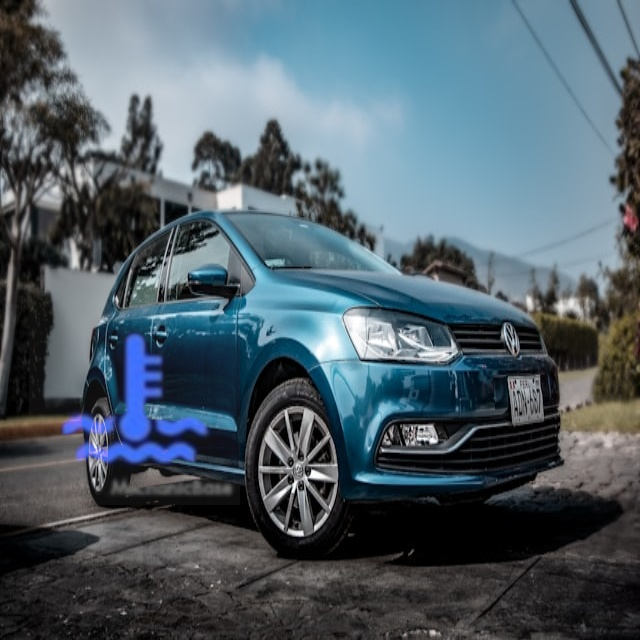symbol: (29, 294, 240, 505)
